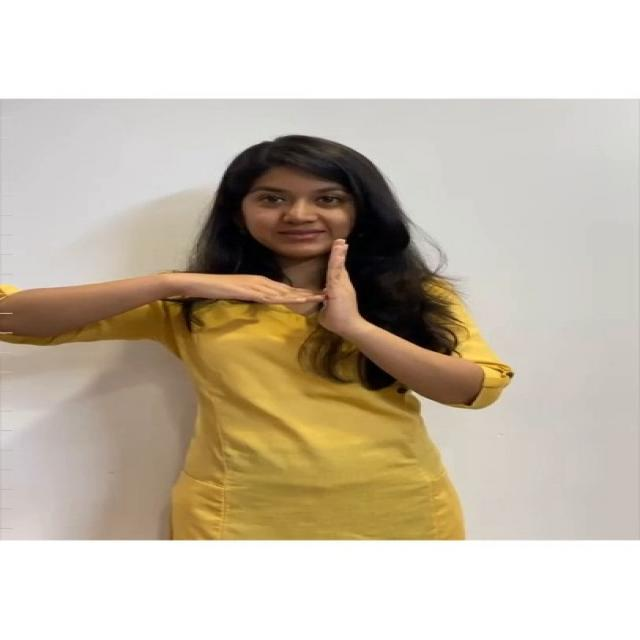Z: (166, 237, 382, 345)
